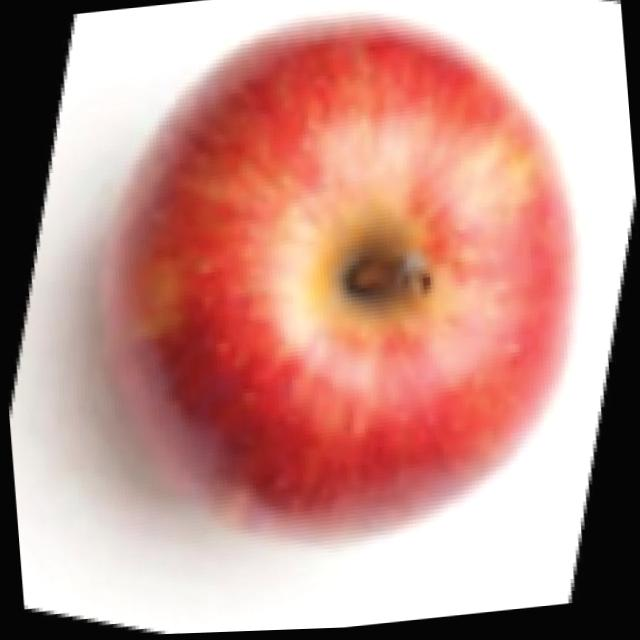Apple: (82, 11, 596, 570)
